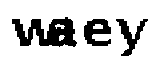a: (54, 18, 81, 49)
e: (81, 17, 111, 50)
w: (8, 17, 51, 48)
y: (115, 17, 152, 60)
